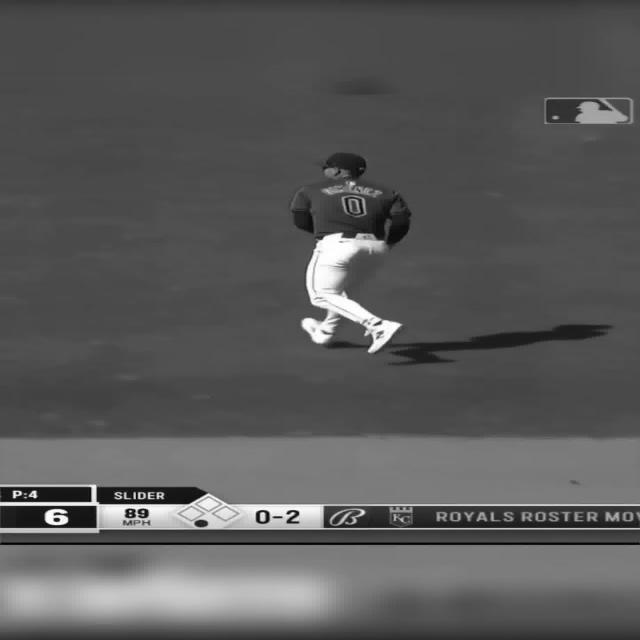shoe: (363, 319, 403, 354), (300, 317, 334, 345)
